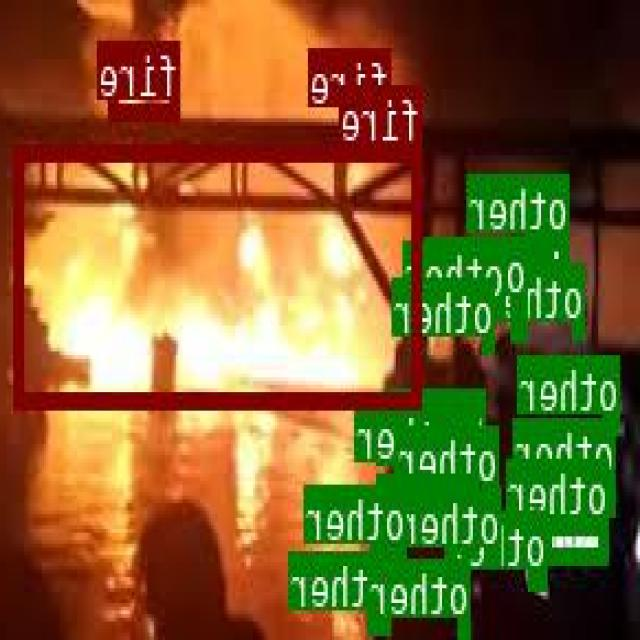fire: (17, 143, 423, 405), (111, 40, 182, 118), (341, 48, 392, 115)
other: (544, 514, 610, 560), (539, 477, 617, 511), (398, 461, 458, 492), (528, 232, 571, 272), (373, 544, 408, 573), (513, 296, 528, 340), (371, 608, 394, 631), (486, 483, 501, 515), (456, 529, 480, 548), (530, 568, 550, 588), (540, 294, 556, 314), (465, 466, 481, 486), (487, 544, 502, 562), (607, 412, 620, 432), (576, 318, 588, 336), (484, 334, 496, 352), (462, 615, 471, 633), (499, 296, 508, 312), (477, 446, 487, 456)
